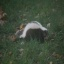skunk: (18, 21, 48, 42)
